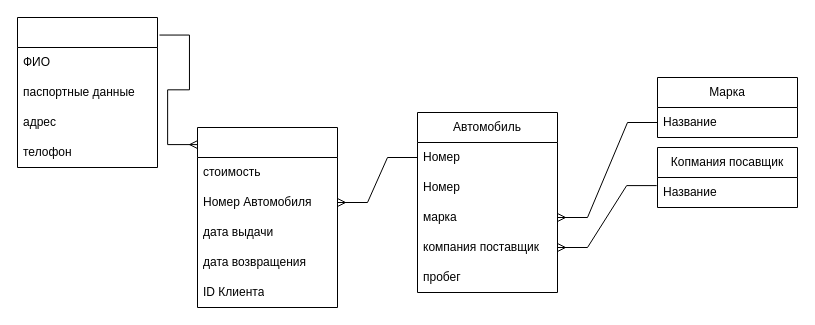
Some shapes in this 815 by 325 pixel diagram are drawn without their labels. Here are the shapes that lost their labels. From the top down, the box of each, then its label:
(16, 16, 158, 168): Клиент
(196, 126, 338, 308): Заказ
